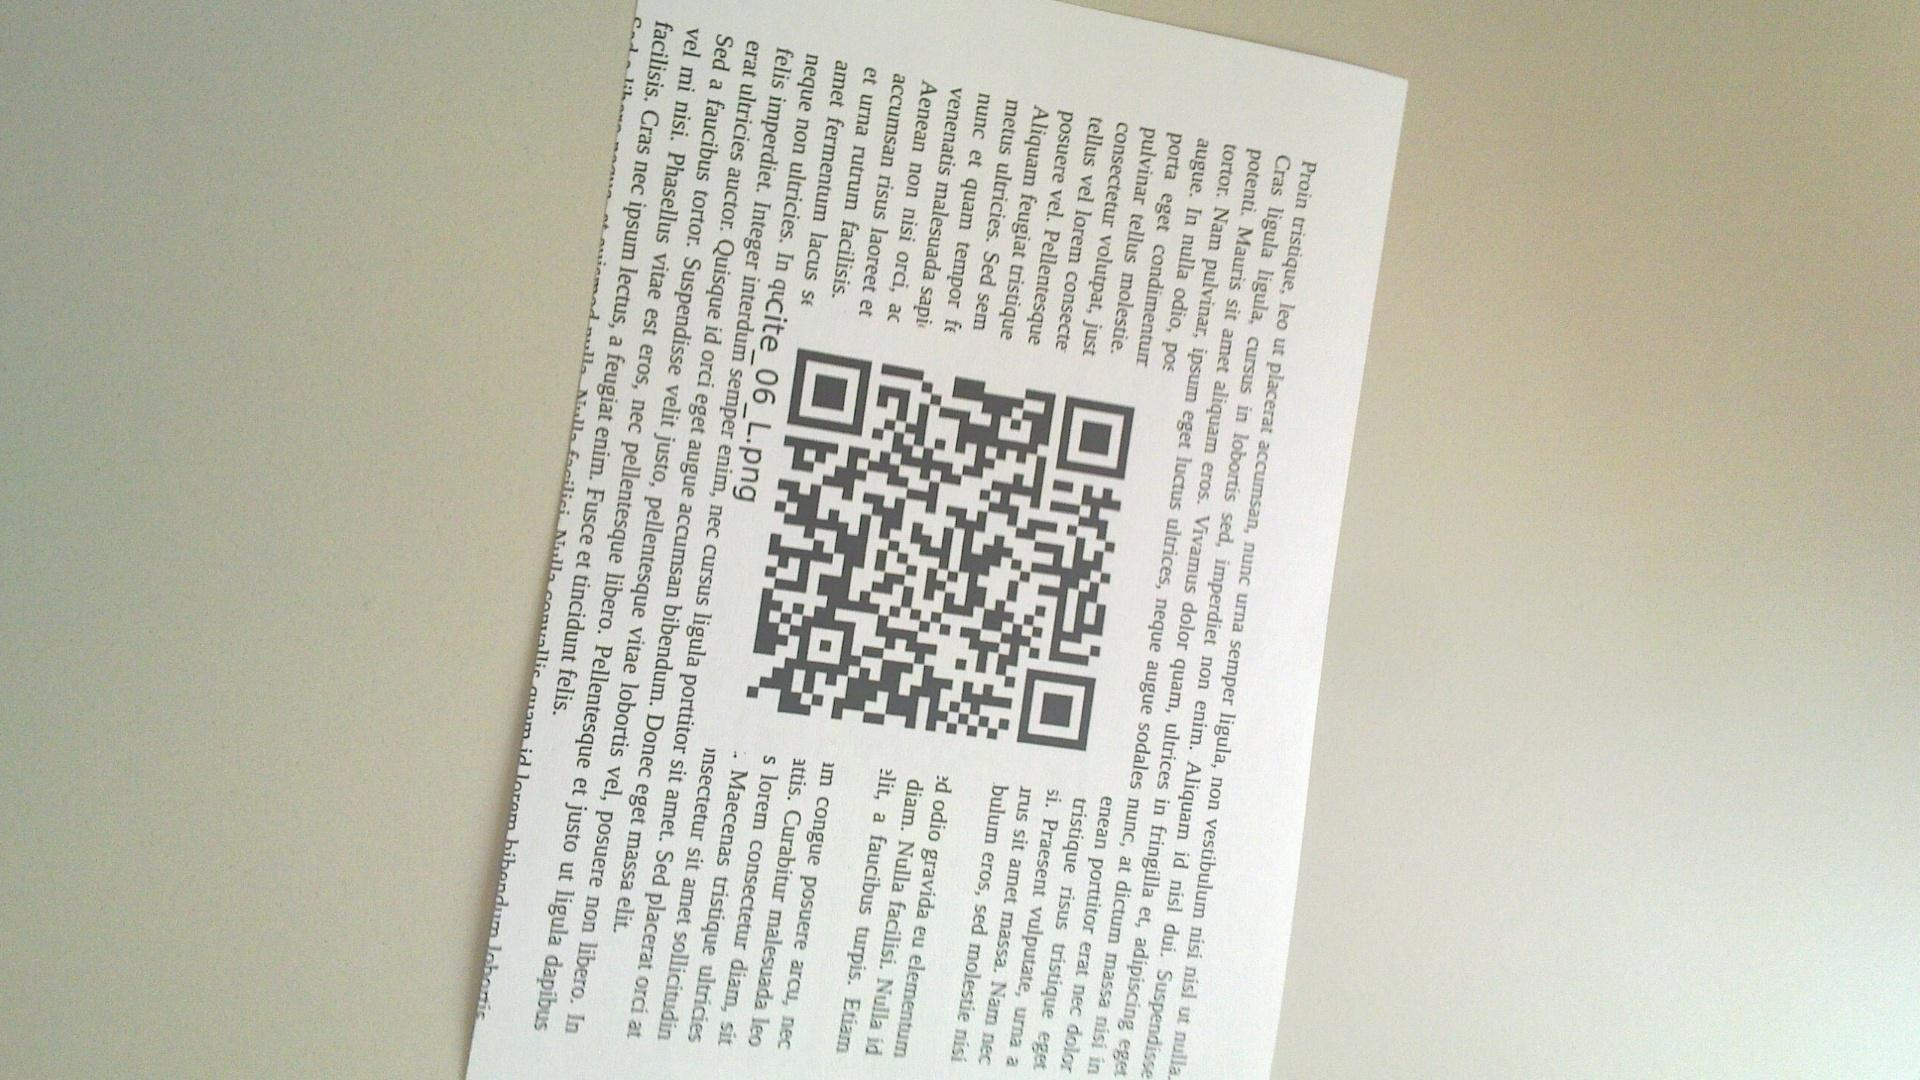Finder pattern: (785, 340, 872, 438), (1011, 662, 1097, 756), (1058, 390, 1131, 483)
